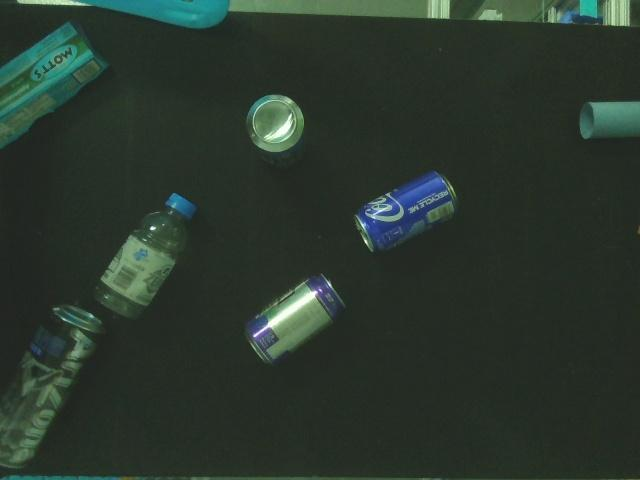cardboard: (0, 15, 115, 155), (574, 98, 640, 144)
metal: (1, 302, 108, 474), (239, 270, 353, 372), (350, 168, 464, 260), (242, 91, 314, 175)
plastic: (90, 191, 200, 322)
